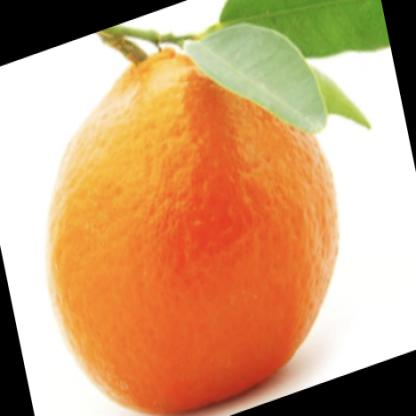orange: (45, 21, 348, 412)
